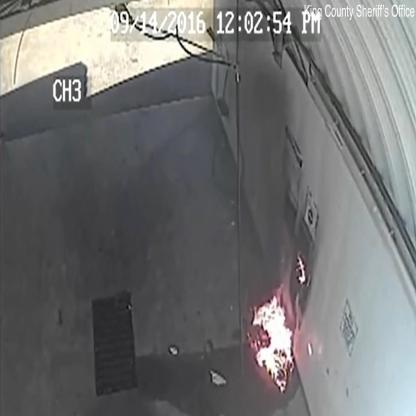fire: (252, 294, 295, 392)
